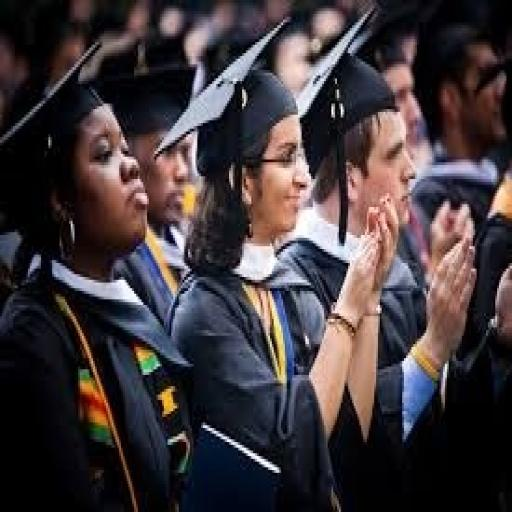clapping: (0, 2, 508, 509)
